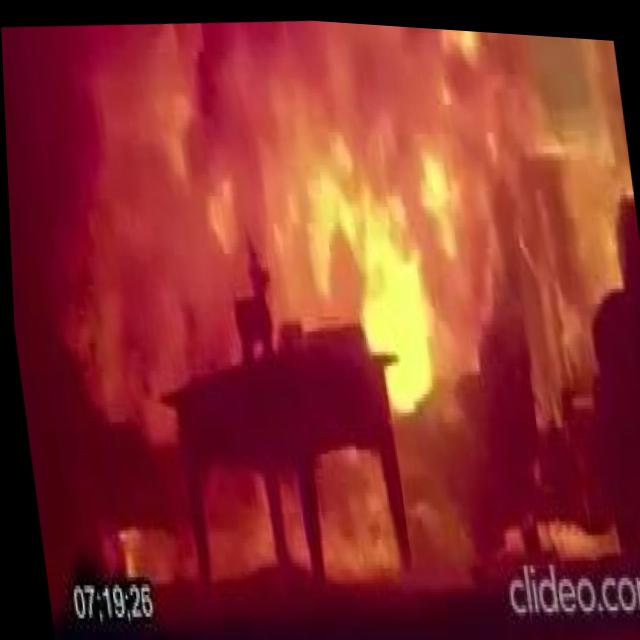fire: (444, 23, 640, 286), (233, 12, 373, 322), (355, 125, 489, 430), (63, 241, 173, 454), (390, 426, 482, 584), (306, 443, 393, 576), (197, 466, 272, 580), (98, 500, 196, 584), (522, 498, 622, 563), (270, 460, 309, 579)
